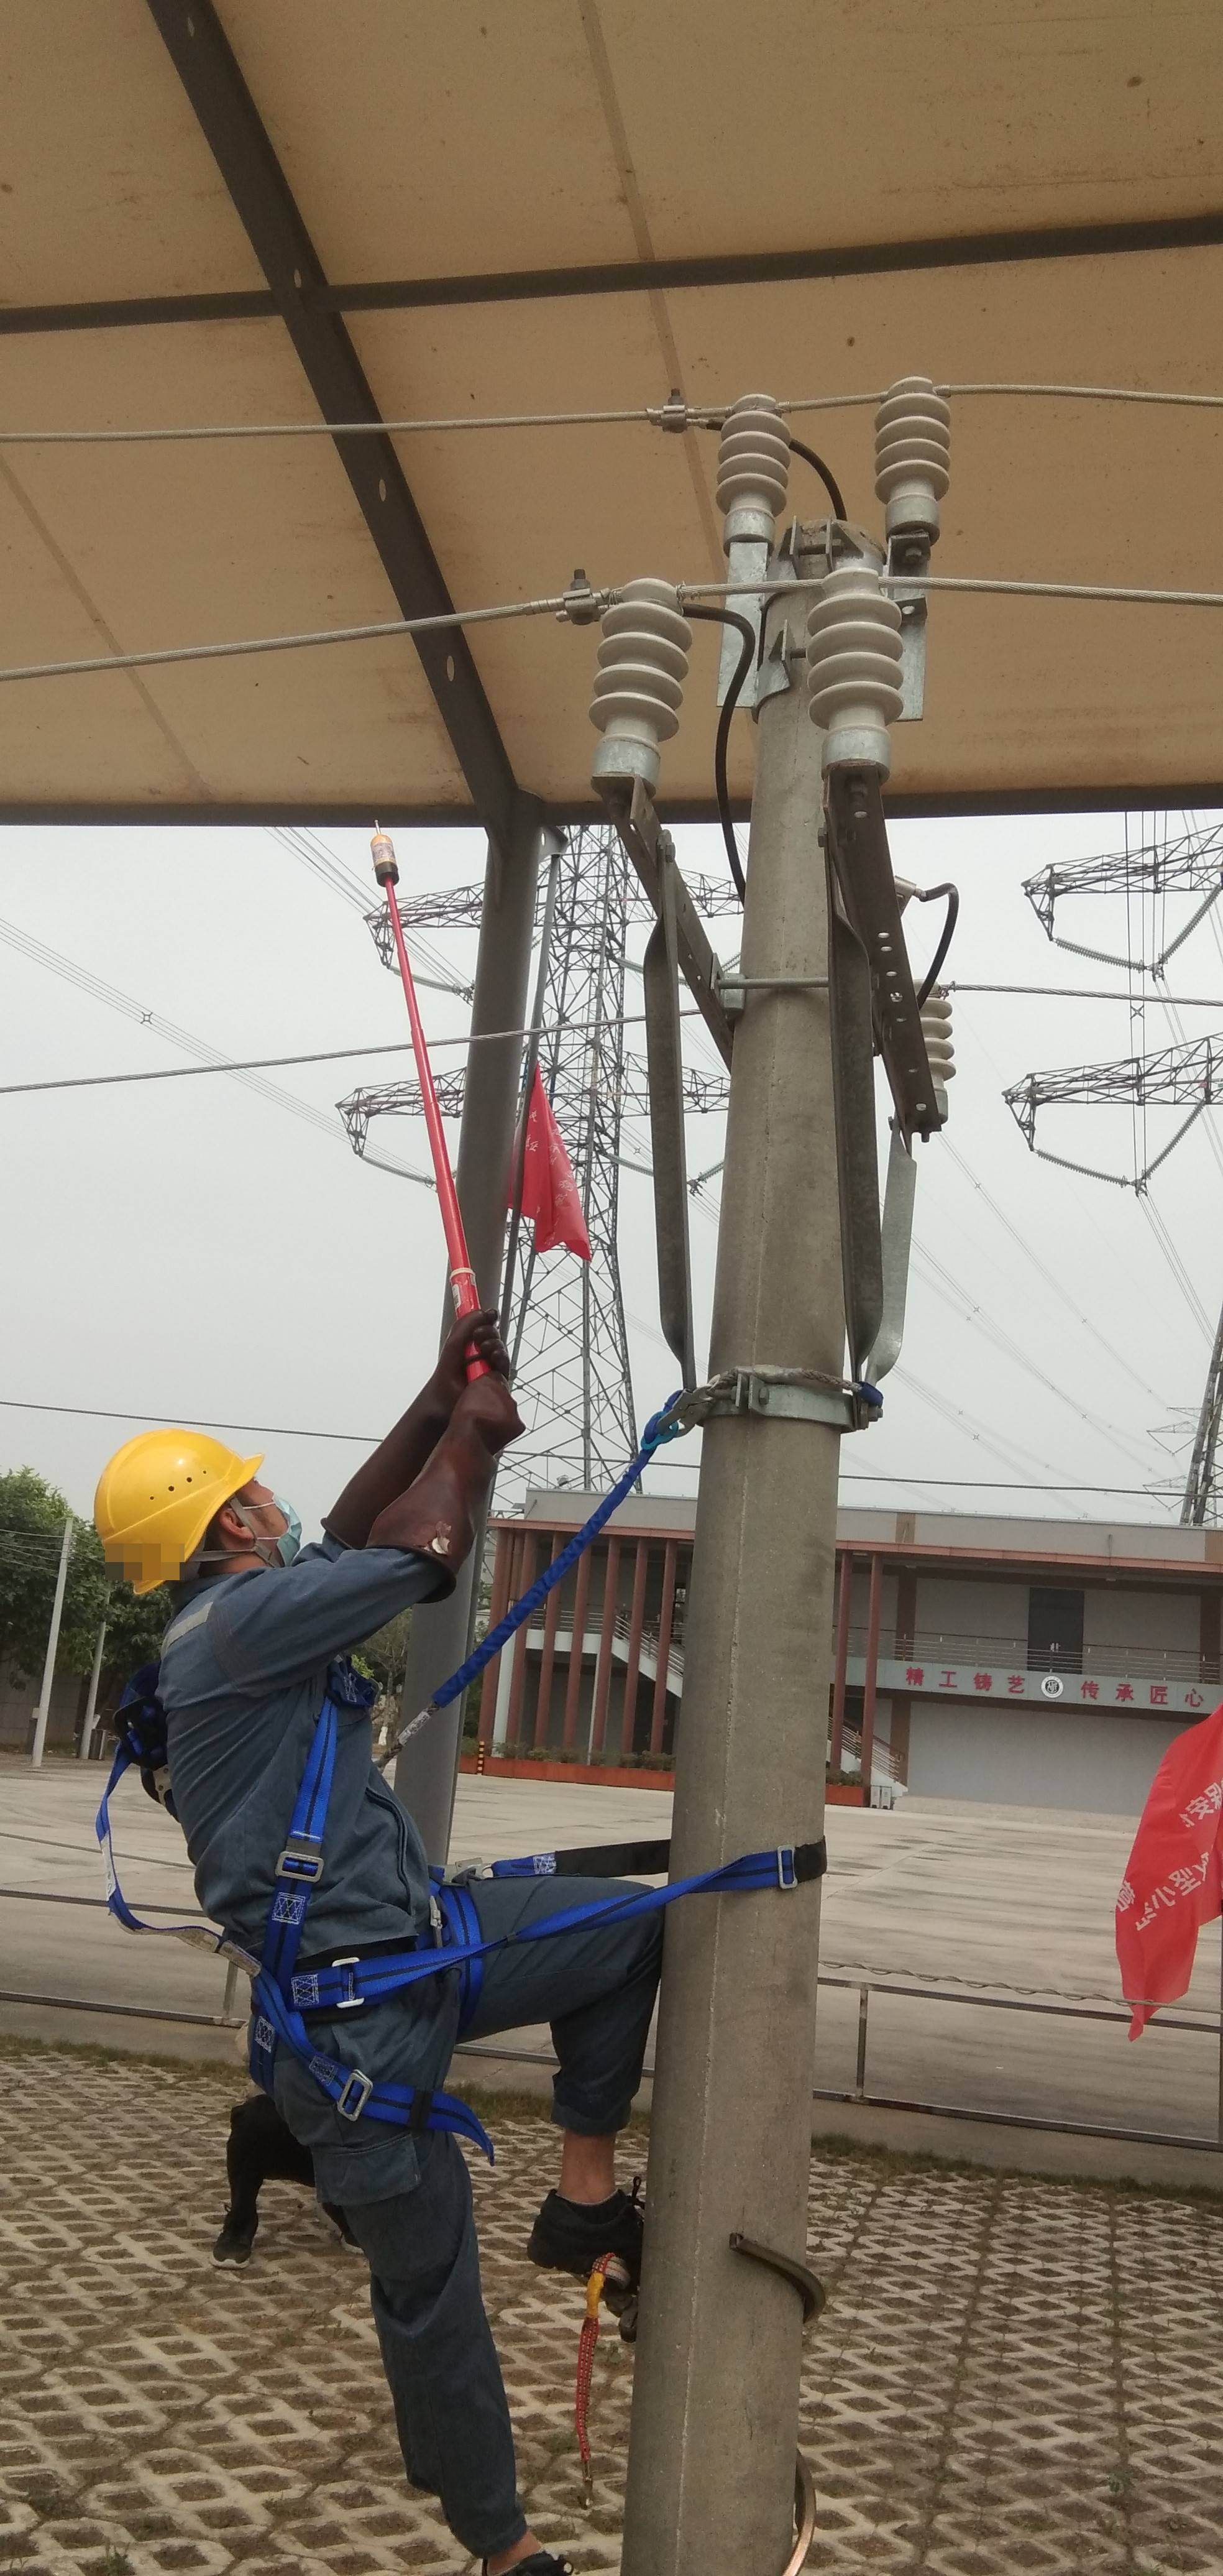downsuit: (264, 1866, 627, 2523)
upsuit: (161, 1564, 442, 1965)
